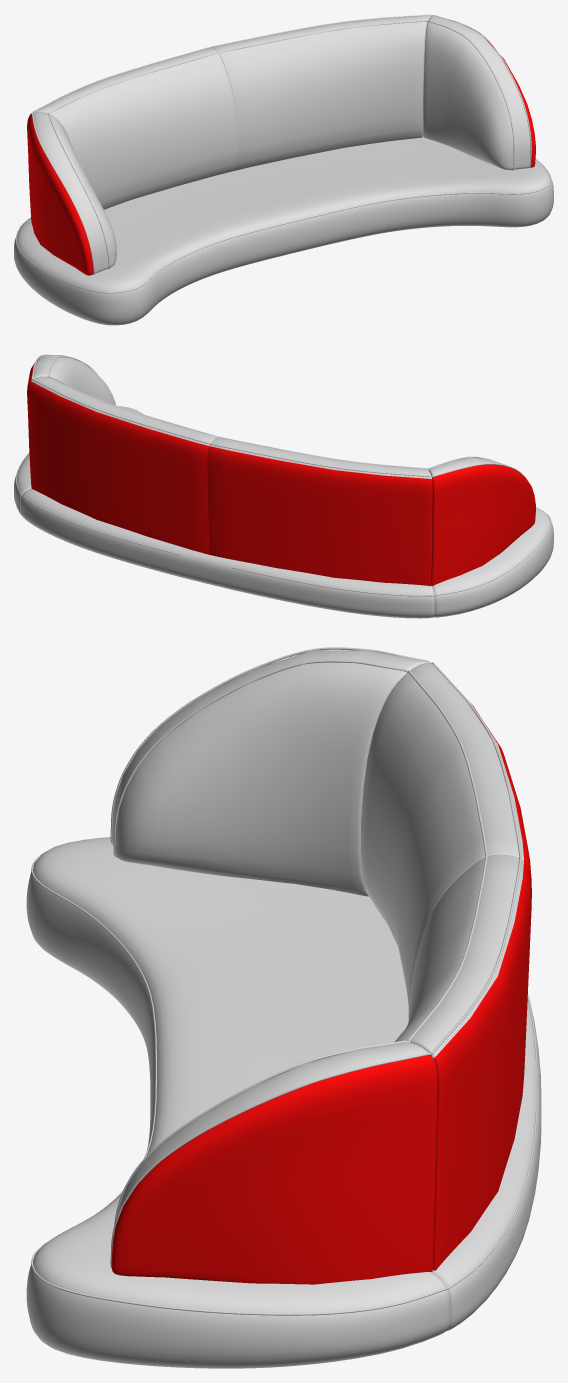
File: levante_sofa_3.gltf
3 views of the same model, one above another, from view 1: azimuth 30°, elevation 25°; view 2: azimuth 150°, elevation 25°; view 3: azimuth 270°, elevation 25° (orthographic). The views are drawn at different scales.
Visible parts, largest first — view 1: sofa_3; view 2: sofa_3; view 3: sofa_3.
Part boxes in pixels (x1,y1,x2,y2): sofa_3: [14, 14, 553, 325]; sofa_3: [14, 354, 553, 618]; sofa_3: [26, 647, 541, 1368].
Size of the model in its own units: 2.21 by 0.6228 by 1.01.
